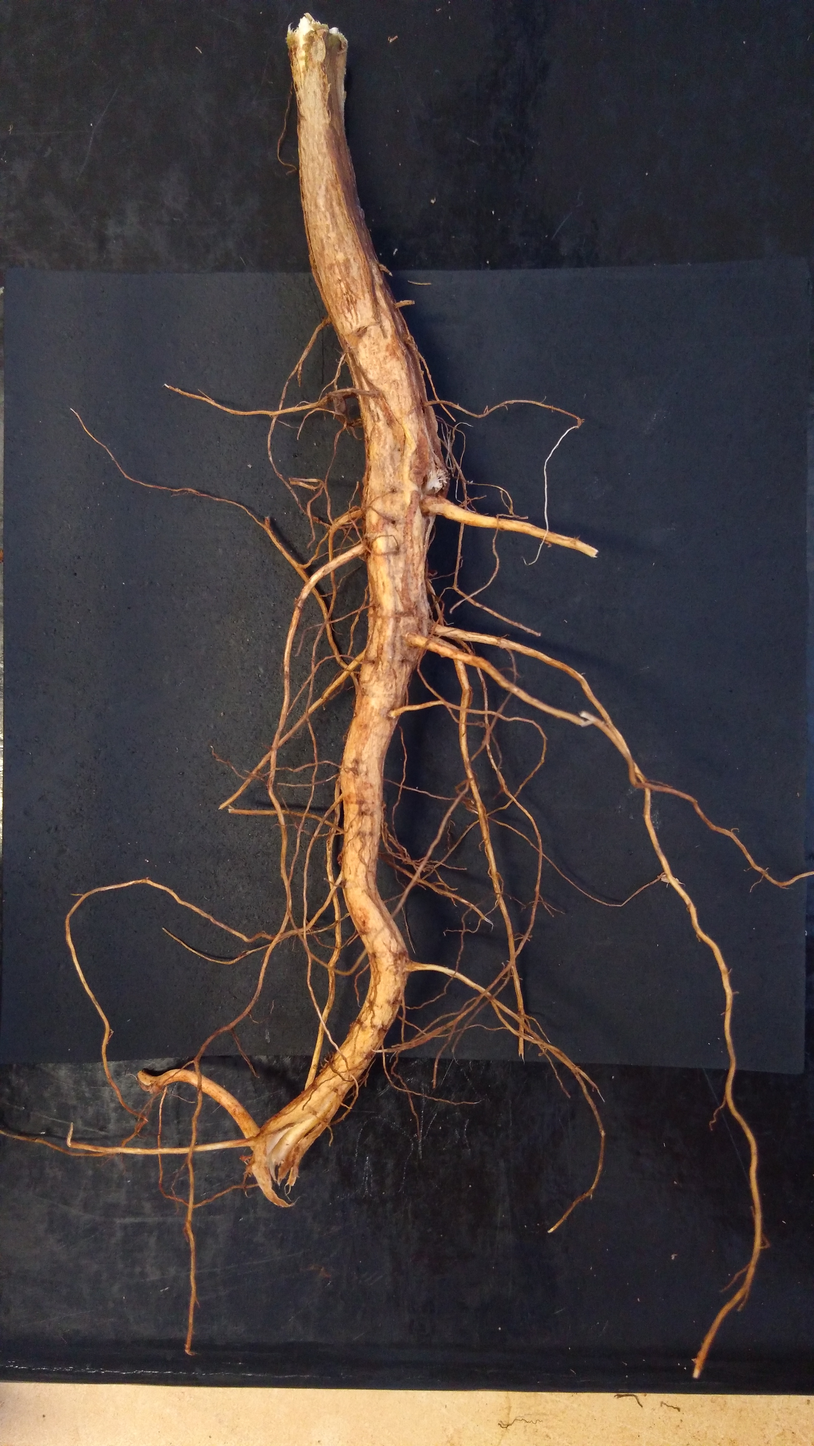nodule: (371, 535, 400, 555), (424, 470, 447, 494), (332, 395, 347, 415), (150, 1083, 161, 1093), (406, 335, 414, 344), (240, 1154, 247, 1162)
